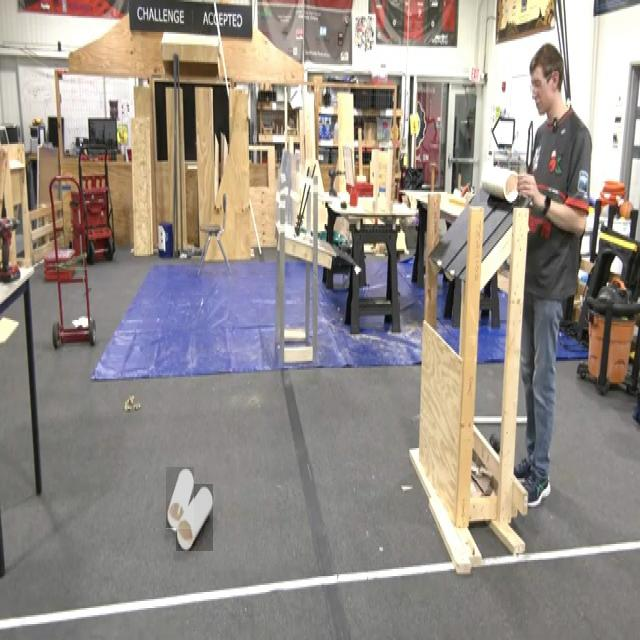Coral: (176, 484, 213, 551), (166, 468, 194, 530), (480, 162, 519, 202)
